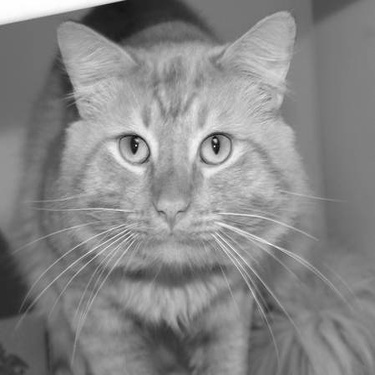cat: (8, 15, 369, 364)
